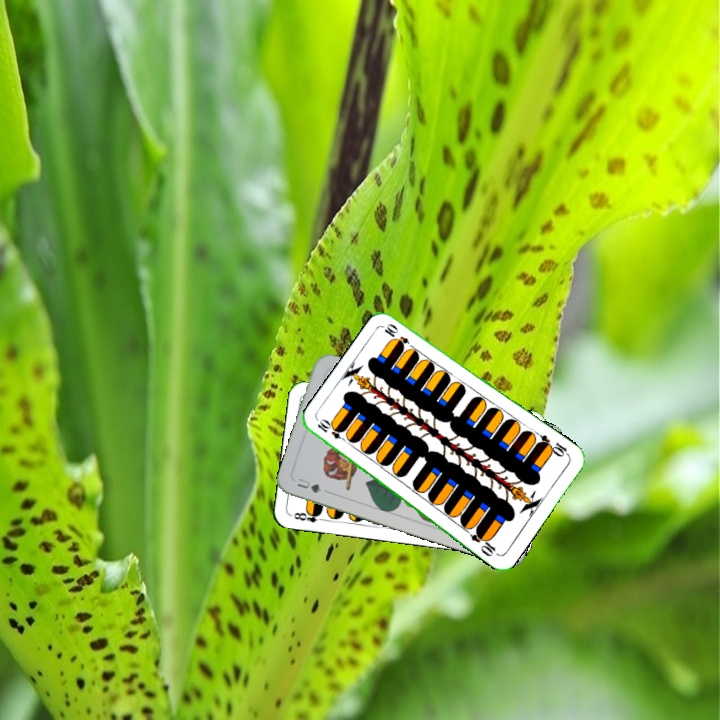E10: (313, 416, 351, 446), (534, 430, 572, 460)
E8: (290, 507, 328, 525)
GU: (293, 474, 324, 496)
